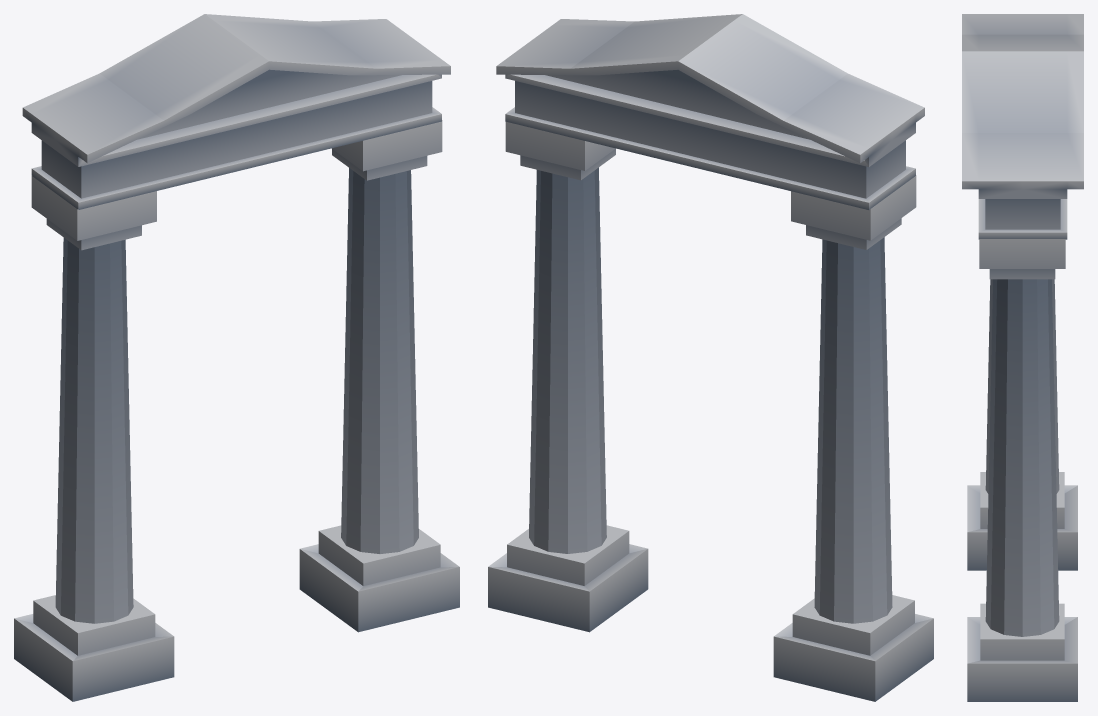
Rendered from Ancient Gate.fbx.
3 views of the same model, side by side, from view 1: azimuth 30°, elevation 25°; view 2: azimuth 150°, elevation 25°; view 3: azimuth 270°, elevation 25° (orthographic). The views are drawn at different scales.
Visible parts, largest first — view 1: Ancient Gate; view 2: Ancient Gate; view 3: Ancient Gate.
Boxes of the visible parts, x1,y1,x2,y2 form: Ancient Gate: (14, 14, 459, 701); Ancient Gate: (488, 14, 933, 701); Ancient Gate: (962, 14, 1083, 701).
Size of the model in its own units: 363 by 534 by 105.
